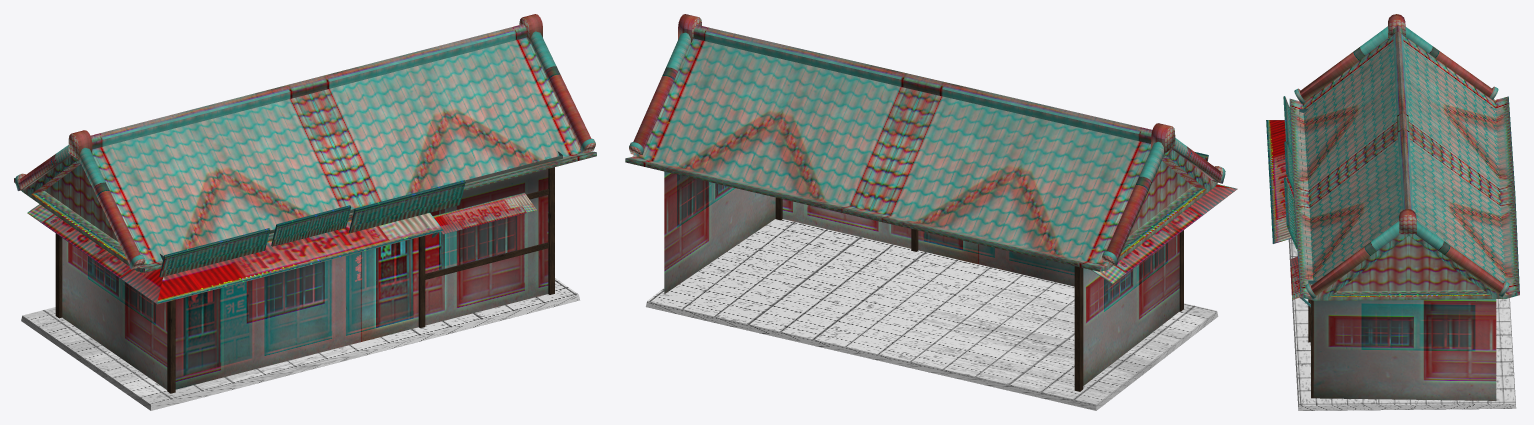
Rendered from sikdang.FBX.
3 views of the same model, side by side, from view 1: azimuth 30°, elevation 25°; view 2: azimuth 150°, elevation 25°; view 3: azimuth 270°, elevation 25° (orthographic). The views are drawn at different scales.
Visible parts, largest first — view 1: polySurface28, him00obj, pCube1, Box008, Box009, Box0011, Box0010, Box0012, pCylinder5, pCylinder6, pCylinder3, pCylinder4 (+1 smaller); view 2: polySurface28, pCube1, him00obj, Box008, pCylinder8; view 3: polySurface28, him00obj, pCube1, Box008, Box009, Box0010, Box0011, pCylinder5, Box0012.
Part boxes in pixels (x1,y1,x2,y2): polySurface28: (14,14,596,272); him00obj: (62,151,562,389); pCube1: (21,278,579,410); Box008: (27,204,443,304); Box009: (349,180,465,232); Box0011: (159,228,270,277); Box0010: (433,192,536,234); Box0012: (271,205,350,246); pCylinder5: (548,167,554,294); pCylinder6: (425,242,548,279); pCylinder3: (167,300,175,393); pCylinder4: (418,235,425,327); polySurface28: (625,14,1225,271); pCube1: (646,219,1218,410); him00obj: (654,154,1179,385); Box008: (1091,184,1237,284); pCylinder8: (1074,266,1083,391); polySurface28: (1289,14,1519,300); him00obj: (1299,107,1496,400); pCube1: (1288,238,1516,410); Box008: (1266,120,1293,243); Box009: (1284,177,1297,249); Box0010: (1290,256,1300,299); Box0011: (1283,96,1291,155); pCylinder5: (1311,300,1313,398); Box0012: (1284,141,1293,191).
Bounding box in the file's own units: 58.26 × 27.57 × 30.92.
3 materials, 3 textured.
